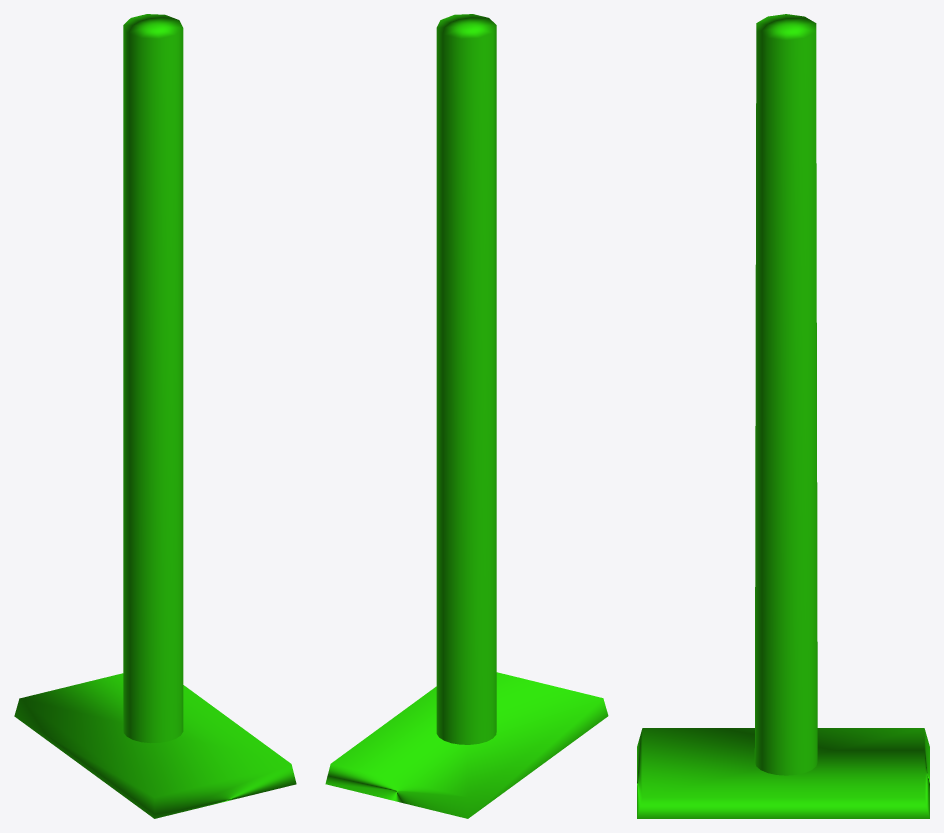
File: Supermarket_Fence_01_Lod1.fbx
3 renders of one model, left to right at view 1: azimuth 30°, elevation 25°; view 2: azimuth 150°, elevation 25°; view 3: azimuth 270°, elevation 25°, orthographic. The views are drawn at different scales.
Parts seen in each view (by area): view 1: Supermarket_Fence_01_Lod1; view 2: Supermarket_Fence_01_Lod1; view 3: Supermarket_Fence_01_Lod1.
Part boxes in pixels (x1,y1,x2,y2): Supermarket_Fence_01_Lod1: (14, 14, 296, 818); Supermarket_Fence_01_Lod1: (325, 14, 608, 818); Supermarket_Fence_01_Lod1: (637, 14, 929, 818).
Bounding box in the file's own units: 15.21 × 73.93 × 25.98.
